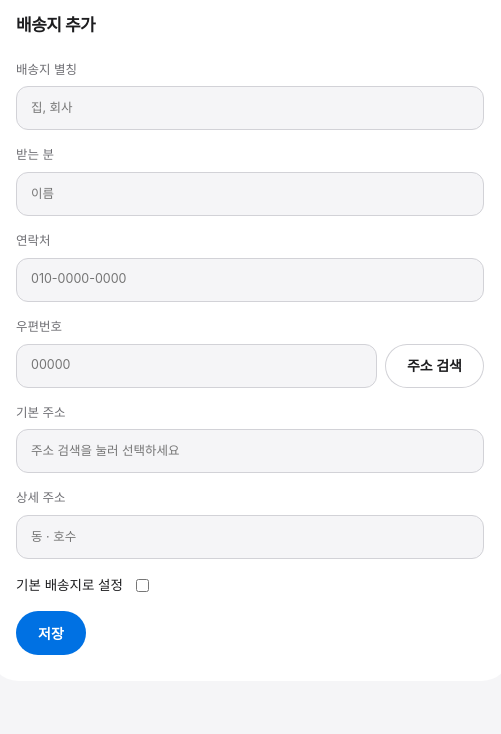
Scenario: AddressForm › falls back to a default message when the server sends none
The image size is (501, 734).
Click the button "주소 검색": (434, 366) [385,344,484,388]
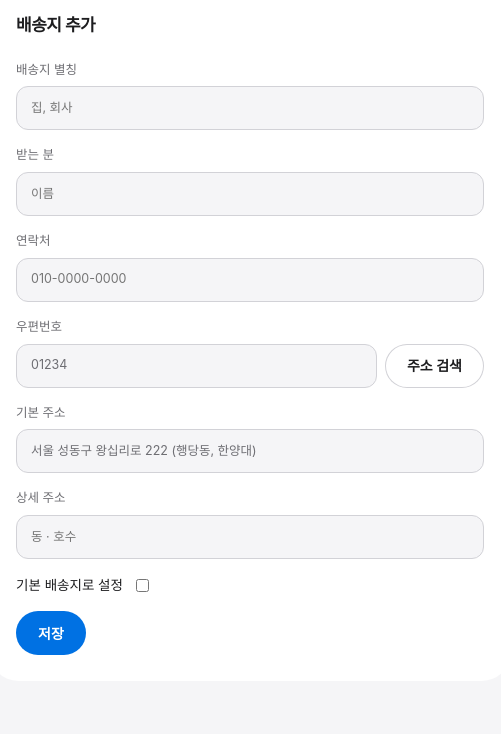
In the field labelled "배송지 별칭": (250, 108) [16,86,484,130], type "집"
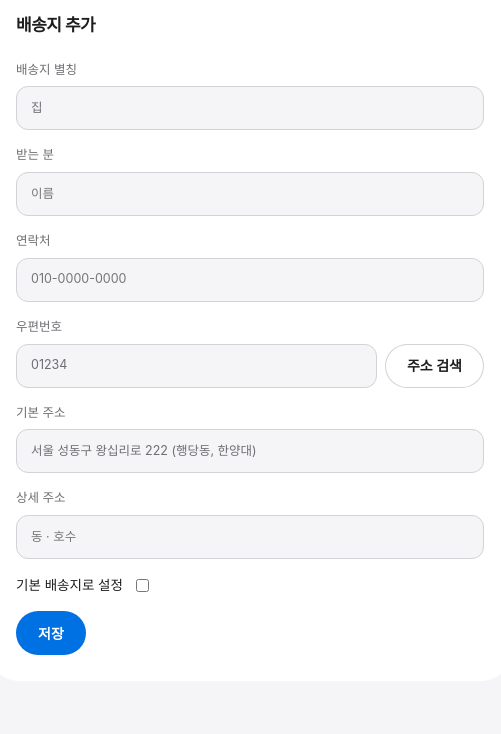
In the field labelled "받는 분": (250, 194) [16,172,484,216], type "김철수"
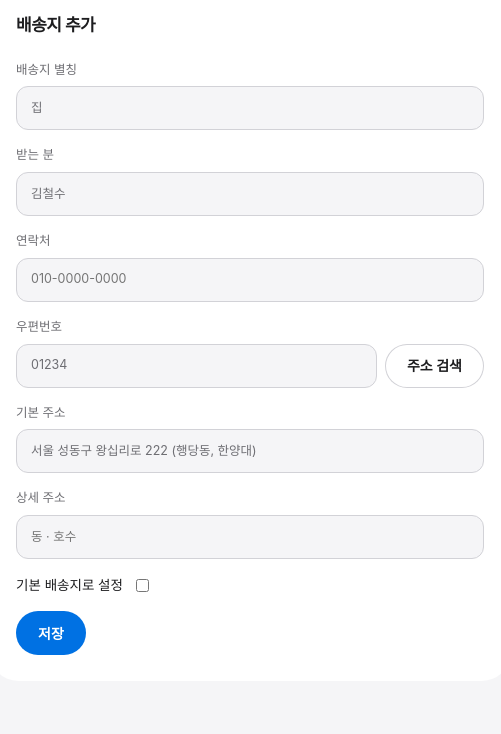
In the field labelled "연락처": (250, 280) [16,258,484,302], type "010-1234-5678"
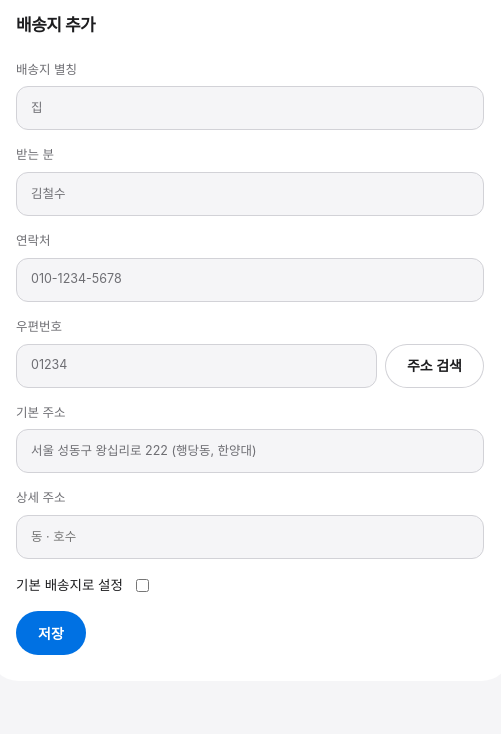
Click the button "저장": (51, 633) [16,611,86,655]
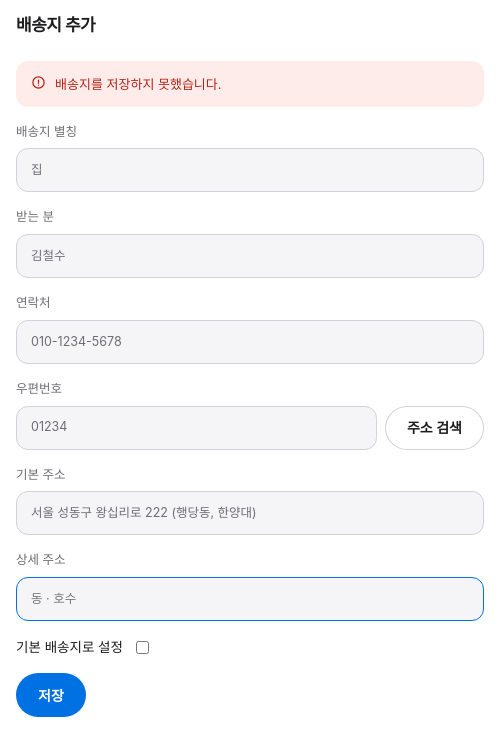
Expected: the message reads "배송지를 저장하지 못했습니다.", [55,76,222,92]
